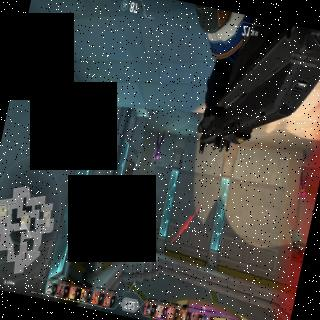ENEMY-BODY: (151, 130, 165, 166), (296, 169, 310, 202)
ENEMY-HEAD: (298, 193, 304, 201), (152, 158, 156, 164)
